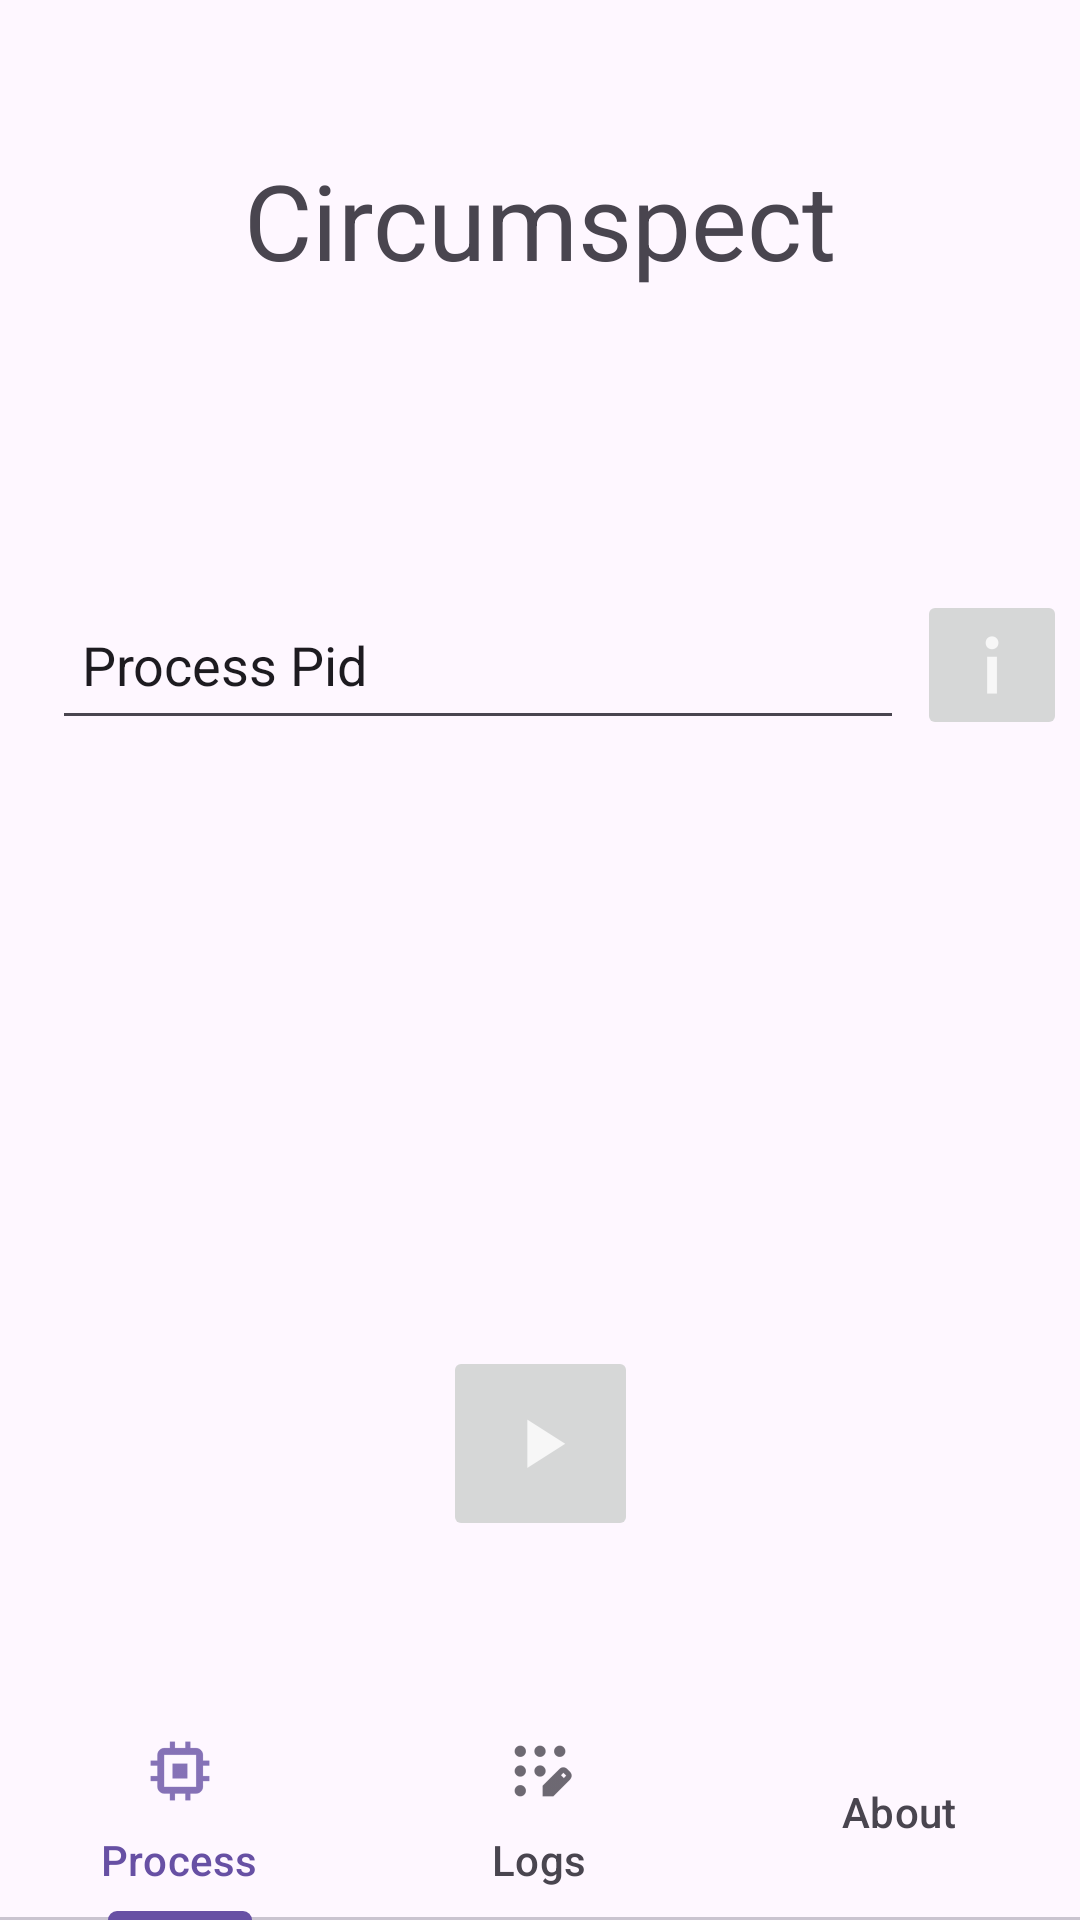

Named icons in this screenshot (1080 x 1920) and their bounding boxes, {"left": x1, "top": y1, "right": x2, "bottom": y2}:
process info: {"left": 929, "top": 608, "right": 1055, "bottom": 722}
run: {"left": 455, "top": 1364, "right": 626, "bottom": 1523}
